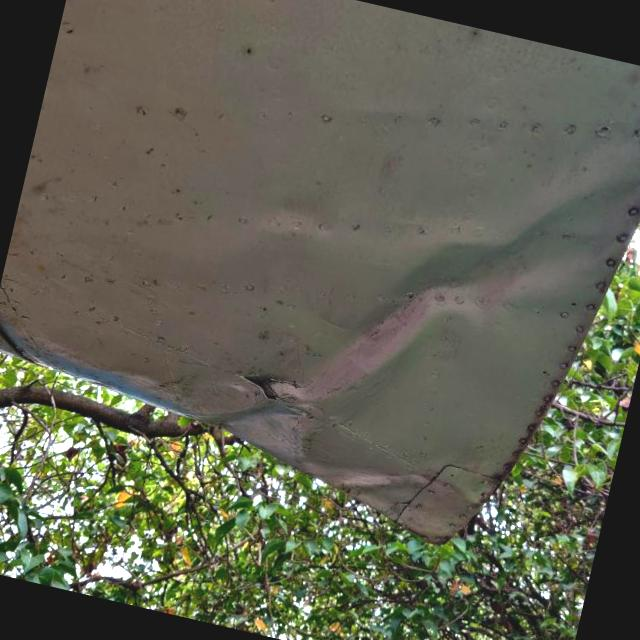crack: (264, 366, 310, 398)
dent: (302, 74, 640, 482)
